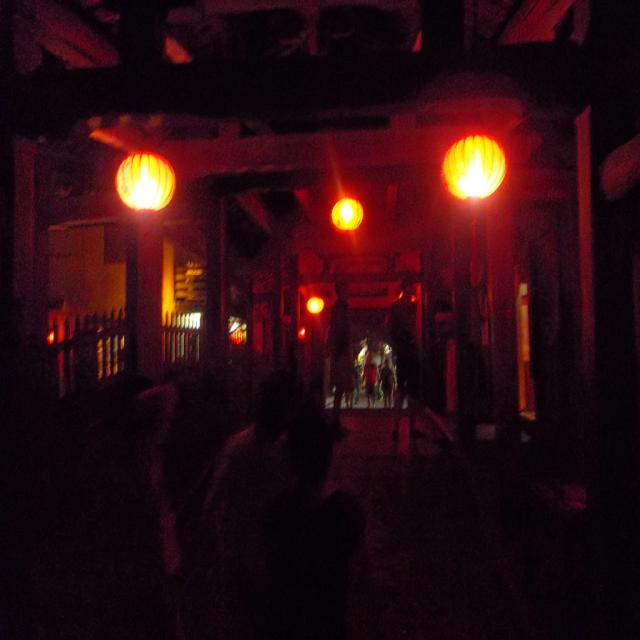no_fire: (430, 78, 543, 230), (266, 164, 425, 272), (98, 96, 188, 250)
